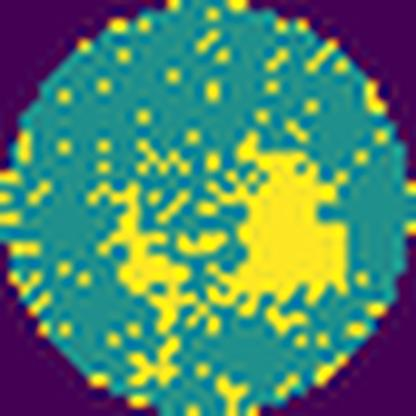Donut: (82, 126, 366, 340)
